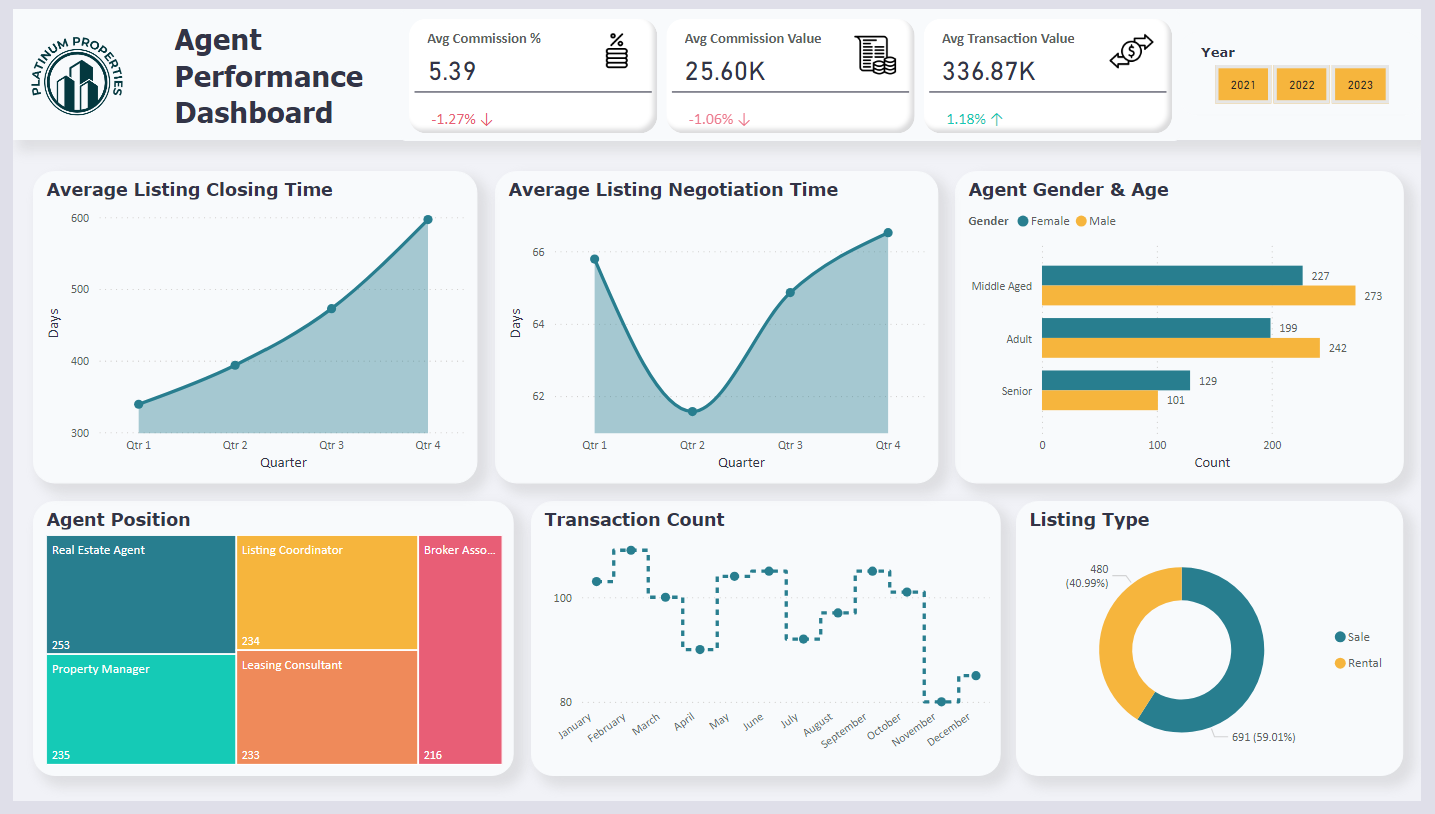

The page's visual inventory and layout, read from the dashboard file:
{"tool":"powerbi","page":{"name":"Page 1","canvas":[1280,720],"ordinal":0},"visuals":[{"type":"clusteredBarChart","title":"Agent Gender & Age","fields":{"Y":["CountNonNull(FactSnapshot.TransactionID)"],"Category":["FactSnapshot.AgeCat"],"Series":["FactSnapshot.Gender"]},"box":[856.6,147.2,407.8,283.5],"z":0},{"type":"treemap","title":"Agent Position","fields":{"Group":["FactSnapshot.Position"],"Values":["CountNonNull(FactSnapshot.TransactionID)"]},"box":[18.1,447.6,436.7,249.7],"z":1000},{"type":"shape","box":[0,0,1280.2,119.4],"z":2000},{"type":"lineChart","title":"Transaction Count","fields":{"Y":["CountNonNull(FactSnapshot.TransactionID)"],"Category":["FactSnapshot.Date.Variation.Date Hierarchy.Year","FactSnapshot.Date.Variation.Date Hierarchy.Quarter","FactSnapshot.Date.Variation.Date Hierarchy.Month","FactSnapshot.Date.Variation.Date Hierarchy.Day"]},"box":[470.5,447.6,427.1,249.7],"z":3000},{"type":"areaChart","title":"Average Listing Negotiation Time","fields":{"Y":["Avg(FactSnapshot.NegotiationDays)"],"Category":["FactSnapshot.Date.Variation.Date Hierarchy.Year","FactSnapshot.Date.Variation.Date Hierarchy.Quarter","FactSnapshot.Date.Variation.Date Hierarchy.Month","FactSnapshot.Date.Variation.Date Hierarchy.Day"]},"box":[437.9,147.2,403,283.5],"z":4000},{"type":"areaChart","title":"Average Listing Closing Time","fields":{"Y":["Avg(FactSnapshot.ClosingDays)"],"Category":["FactSnapshot.Date.Variation.Date Hierarchy.Year","FactSnapshot.Date.Variation.Date Hierarchy.Quarter","FactSnapshot.Date.Variation.Date Hierarchy.Month","FactSnapshot.Date.Variation.Date Hierarchy.Day"]},"box":[18.1,147.2,404.2,283.5],"z":5000},{"type":"donutChart","title":"Listing Type","fields":{"Category":["FactSnapshot.ListingType"],"Y":["CountNonNull(FactSnapshot.ListingType)"]},"box":[912.1,447.6,352.3,249.7],"z":6000},{"type":"slicer","fields":{"Values":["FactSnapshot.Date.Variation.Date Hierarchy.Year"]},"box":[1060.7,21.1,219.5,76.4],"z":7000},{"type":"textbox","box":[141.4,5.3,188.8,109.8],"z":8000},{"type":"image","box":[10.9,9.7,95.3,102.5],"z":9000},{"type":"cardVisual","title":"this is title","fields":{"Data":["Avg(FactSnapshot.CommissionRate)","Avg(FactSnapshot.CommissionValue)","Avg(FactSnapshot.TransactionValue)"]},"box":[352.1,0.9,708.6,118.5],"z":10000}]}

Visuals, with their boxes in screenshot pixels (x1, y1, x2, y2), scaled from the page's 1280x720 canvas onto the 1435x814 screenshot:
"Agent Gender & Age" clusteredBarChart: bbox=(960, 166, 1418, 487)
"Agent Position" treemap: bbox=(20, 506, 510, 788)
shape: bbox=(0, 0, 1434, 135)
"Transaction Count" lineChart: bbox=(527, 506, 1006, 788)
"Average Listing Negotiation Time" areaChart: bbox=(491, 166, 943, 487)
"Average Listing Closing Time" areaChart: bbox=(20, 166, 473, 487)
"Listing Type" donutChart: bbox=(1023, 506, 1418, 788)
slicer - FactSnapshot.Date.Variation.Date Hierarchy.Year: bbox=(1189, 24, 1434, 110)
textbox: bbox=(159, 6, 370, 130)
image: bbox=(12, 11, 119, 127)
"this is title" cardVisual: bbox=(395, 1, 1189, 135)
